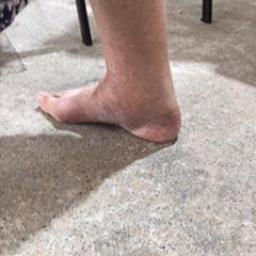Medial View -Right Foot-: (28, 46, 190, 156)
